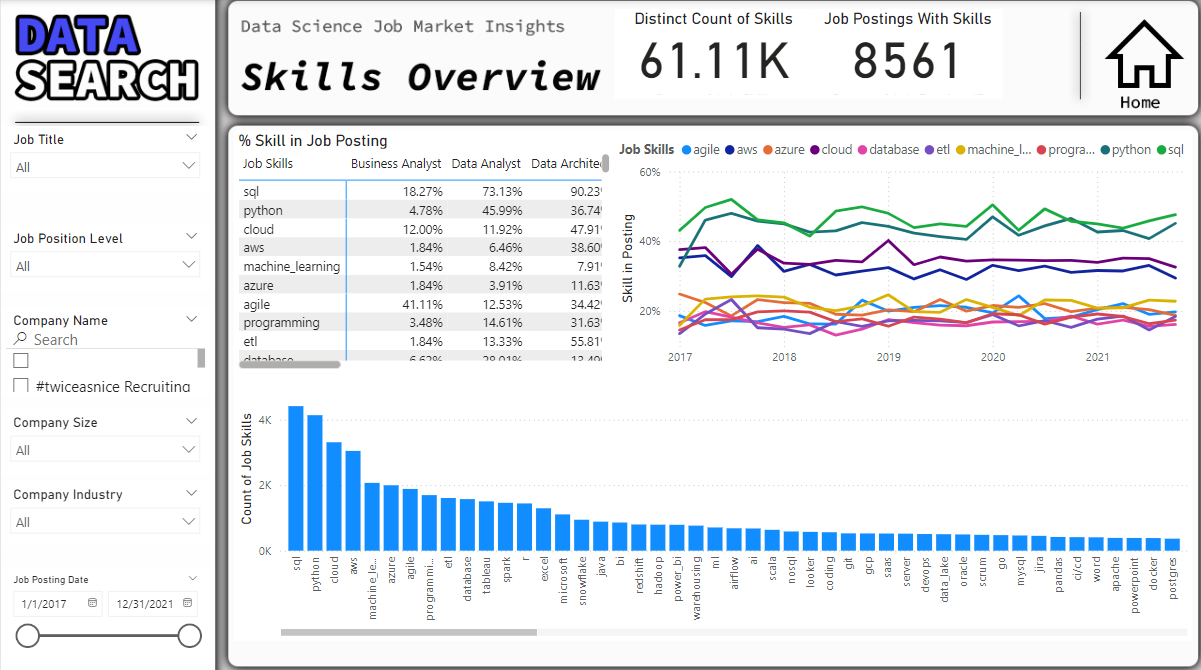

What the dashboard file says about the page in this screenshot:
{"tool":"powerbi","page":{"name":"Skills","canvas":[1280,720],"ordinal":2},"visuals":[{"type":"slicer","fields":{"Values":["job_postings.Job Title"]},"box":[0,134.2,222.1,70.3],"z":0},{"type":"slicer","fields":{"Values":["job_postings.Job Position Level"]},"box":[0,239.7,222.1,70.3],"z":1000},{"type":"slicer","fields":{"Values":["job_postings.Company Name"]},"box":[0,327.5,222.1,94.3],"z":2000},{"type":"slicer","fields":{"Values":["job_postings.Company Size"]},"box":[0,436.2,222.1,70.3],"z":3000},{"type":"slicer","fields":{"Values":["job_postings.Company Industry"]},"box":[0,512.9,222.1,67.1],"z":4000},{"type":"slicer","fields":{"Values":["job_postings.Job Posting Date"]},"box":[0,605,222.1,115],"z":5000},{"type":"clusteredColumnChart","fields":{"Category":["Job Skills.Job Skills"],"Y":["CountNonNull(Job Skills.Job Skills)"]},"box":[247.6,397.8,1020.9,284.4],"z":6000},{"type":"lineChart","fields":{"Category":["job_postings.Job Posting Date.Variation.Date Hierarchy.Year","job_postings.Job Posting Date.Variation.Date Hierarchy.Quarter","job_postings.Job Posting Date.Variation.Date Hierarchy.Month","job_postings.Job Posting Date.Variation.Date Hierarchy.Day"],"Y":["_Measures.Skill in Posting"],"Series":["Job Skills.Job Skills"]},"box":[653.4,139,615.1,258.8],"z":7000},{"type":"pivotTable","title":"% Skill in Job Posting","fields":{"Values":["_Measures.Skill in Posting"],"Columns":["job_postings.Job Title"],"Rows":["Job Skills.Job Skills"]},"box":[247.6,139,405.8,258.8],"z":8000},{"type":"card","title":"Distinct Count of Skills","fields":{"Values":["CountNonNull(Job Skills.Job Skills)"]},"box":[653.4,9.6,210.9,95.9],"z":9000},{"type":"card","title":"Job Postings With Skills","fields":{"Values":["Count(Job Skills.Job Posting ID)"]},"box":[864.3,9.6,202.9,95.9],"z":10000},{"type":"image","box":[1167.9,9.6,100.7,95.9],"z":11000}]}

Visuals, with their boxes in screenshot pixels (x1, y1, x2, y2), scaled from the page's 1280x720 canvas onto the 1201x670 screenshot:
slicer - job_postings.Job Title: (0,125,208,190)
slicer - job_postings.Job Position Level: (0,223,208,288)
slicer - job_postings.Company Name: (0,305,208,393)
slicer - job_postings.Company Size: (0,406,208,471)
slicer - job_postings.Company Industry: (0,477,208,540)
slicer - job_postings.Job Posting Date: (0,563,208,669)
clusteredColumnChart - Job Skills.Job Skills x CountNonNull(Job Skills.Job Skills): (232,370,1190,635)
lineChart - job_postings.Job Posting Date.Variation.Date Hierarchy.Year x job_postings.Job Posting Date.Variation.Date Hierarchy.Quarter: (613,129,1190,370)
"% Skill in Job Posting" pivotTable: (232,129,613,370)
"Distinct Count of Skills" card: (613,9,811,98)
"Job Postings With Skills" card: (811,9,1001,98)
image: (1096,9,1190,98)
